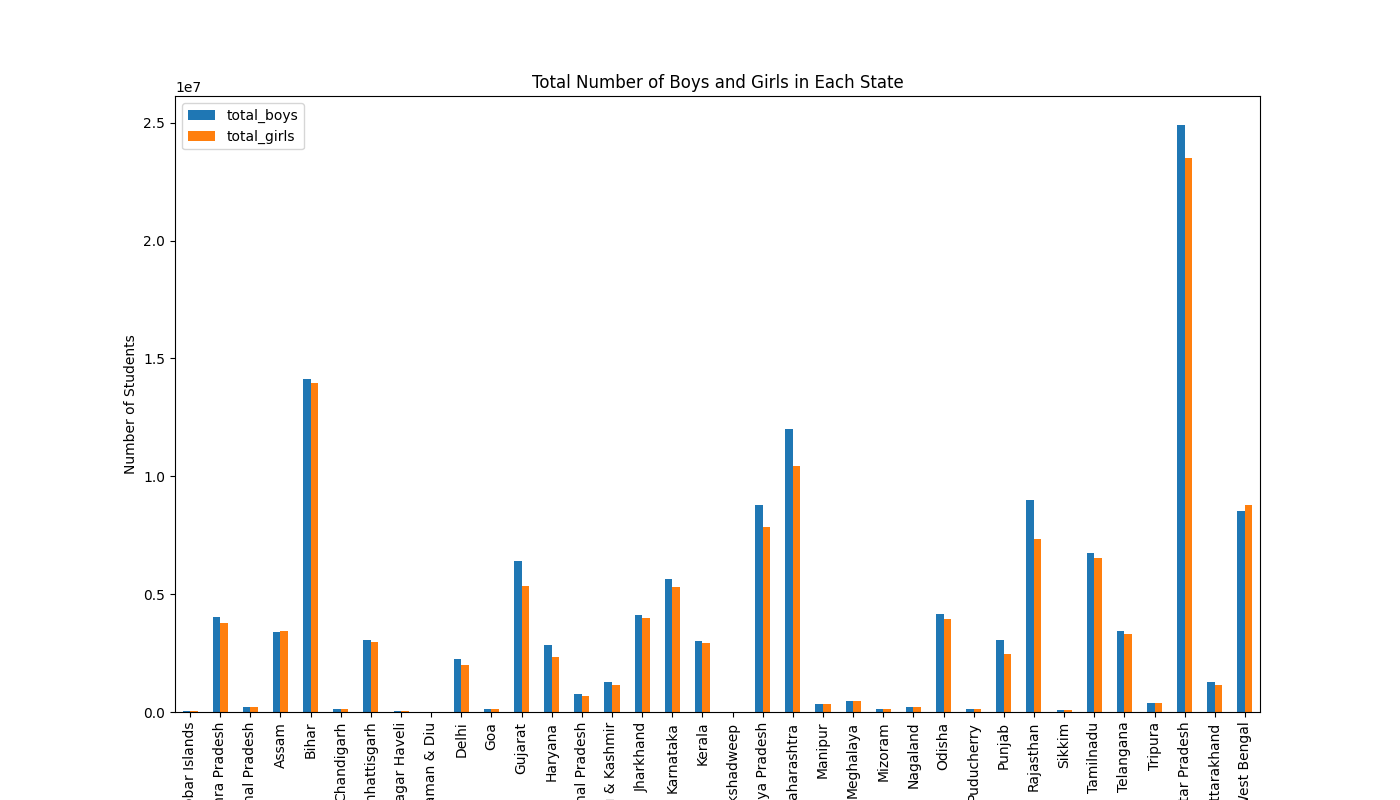

The page's visual inventory and layout, read from the dashboard file:
{"tool":"tableau","page":{"name":"Dashboard 1","canvas":[1000,1000],"units":"permille","ordinal":0},"visuals":[{"type":"worksheet","title":"Sheet 2","mark":"Bar","rows":["count"],"cols":["date","date"],"box":[1.8,480.7,991,499.4]}]}

Visuals, with their boxes on the dashboard's canvas, which has no fixed pixel size, in thousandths of its width and height (x1, y1, x2, y2). These are canvas units, not pixel positions in the 1400x800 screenshot, which may show the page scaled, cropped or inside an application window:
"Sheet 2" worksheet (Bar marks): Rect(2, 481, 993, 980)
